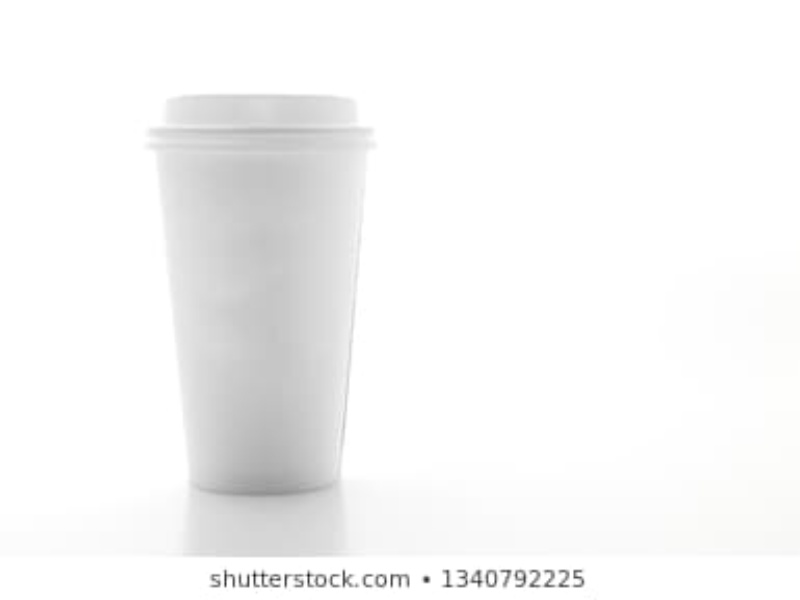coffee-lid: (139, 94, 379, 151)
plastic-cup: (143, 92, 373, 501)
